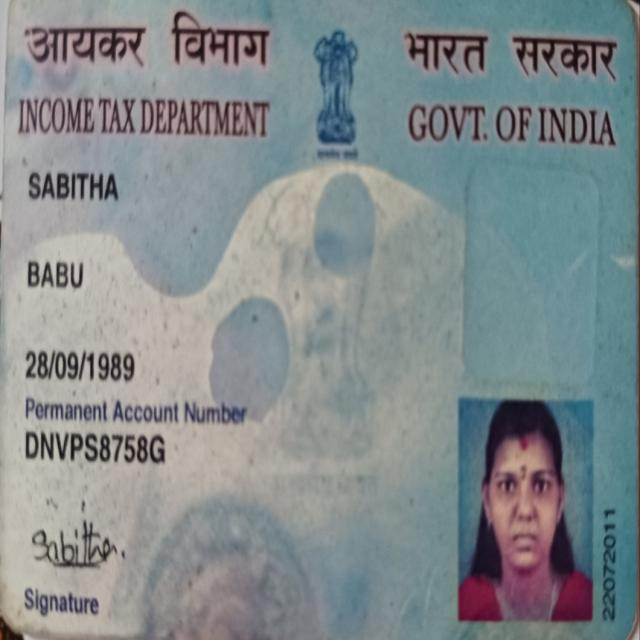pan_card: (5, 3, 637, 632)
